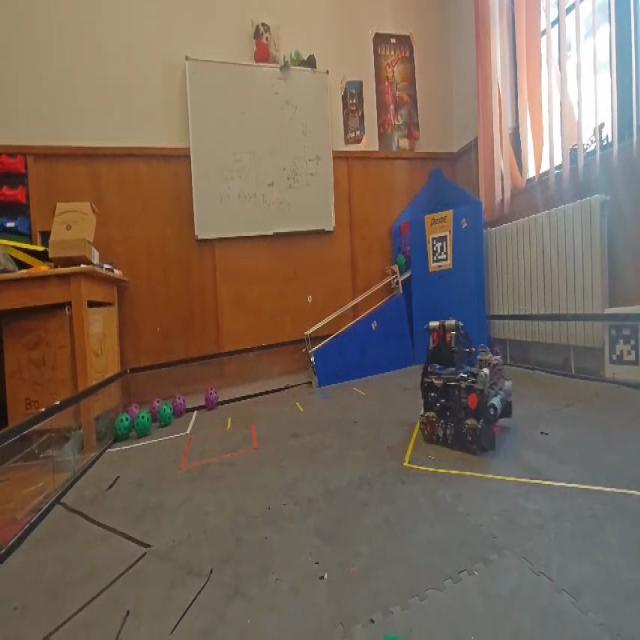artifact_green: (114, 414, 132, 441), (135, 410, 152, 437), (159, 403, 173, 427), (149, 399, 161, 422), (396, 252, 407, 274), (383, 636, 400, 639)
artifact_purple: (172, 394, 186, 417), (149, 399, 162, 422), (205, 388, 218, 410), (127, 403, 140, 422)
